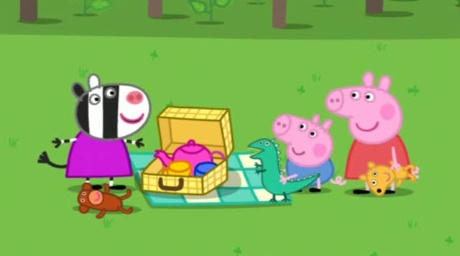Peppa: (326, 72, 417, 198)
